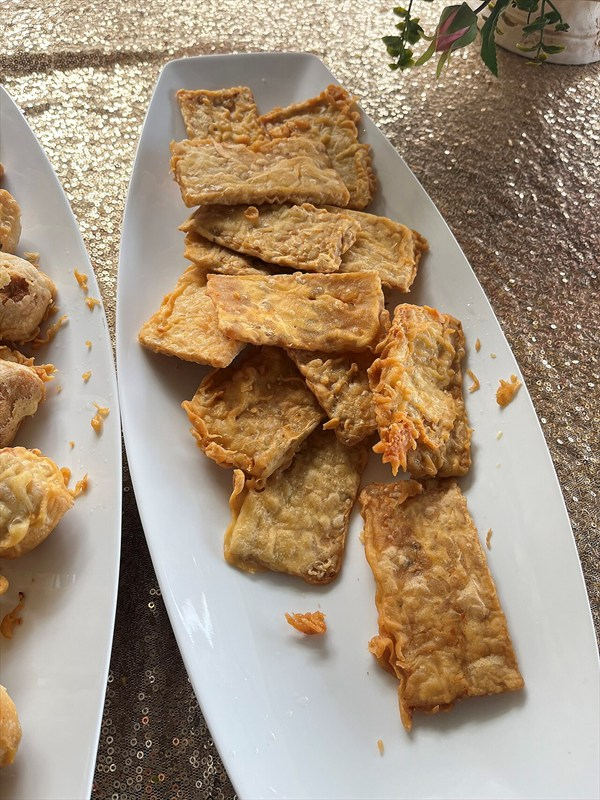Tempe Goreng: (24, 72, 478, 681)
